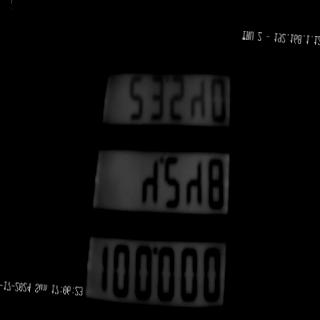screen: (75, 42, 247, 320)
